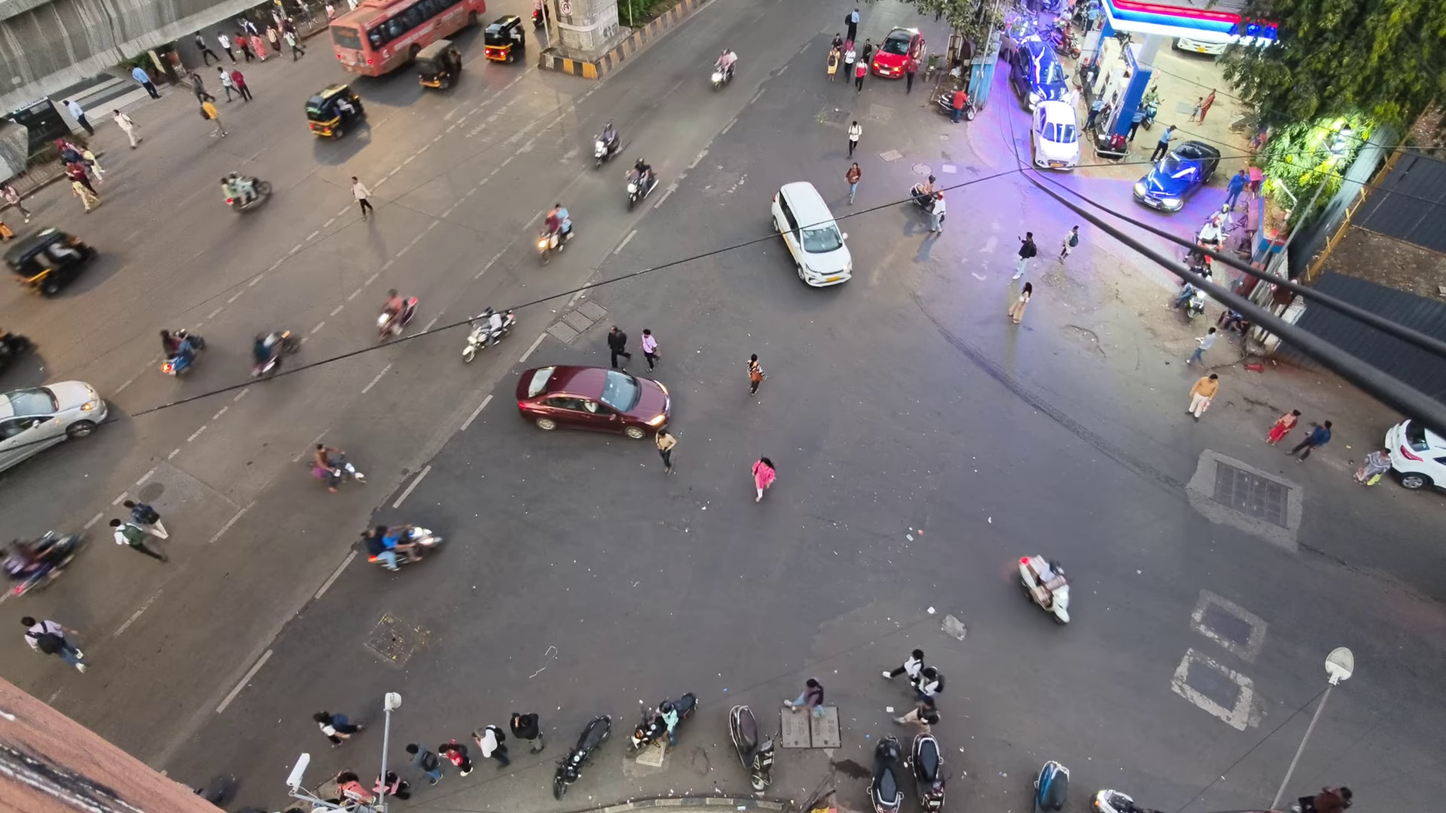walking: (21, 617, 86, 672), (109, 519, 167, 562), (1287, 420, 1331, 461), (123, 500, 168, 538), (313, 712, 362, 746), (473, 725, 509, 769), (405, 743, 442, 784), (784, 678, 825, 715), (1353, 448, 1392, 486), (1186, 373, 1217, 420), (509, 713, 545, 753), (334, 770, 375, 805), (1296, 786, 1351, 812), (438, 739, 473, 776), (894, 698, 940, 726), (0, 181, 31, 222), (883, 649, 923, 680), (1267, 410, 1301, 445), (1011, 232, 1036, 279), (1185, 327, 1216, 364), (113, 109, 142, 148), (65, 162, 97, 196), (912, 666, 944, 700), (63, 100, 94, 135), (1007, 282, 1032, 323), (752, 457, 775, 501), (374, 771, 410, 799), (607, 325, 630, 368), (351, 176, 374, 218), (1225, 169, 1248, 210), (655, 429, 676, 473), (201, 101, 227, 136), (1150, 125, 1174, 162), (194, 32, 220, 66), (132, 65, 158, 98), (72, 181, 99, 212), (188, 72, 215, 102), (1058, 225, 1078, 262), (747, 354, 765, 394), (1084, 96, 1105, 130), (230, 69, 252, 101), (215, 30, 236, 63), (1127, 107, 1146, 143), (641, 328, 657, 370), (929, 191, 945, 232), (1197, 89, 1216, 123), (284, 30, 304, 61), (846, 163, 861, 204), (951, 87, 967, 123), (847, 120, 862, 157), (219, 65, 234, 102), (235, 32, 252, 62), (826, 47, 841, 80), (905, 57, 918, 94), (845, 8, 859, 41), (854, 60, 868, 91), (266, 24, 279, 55), (1189, 97, 1203, 122), (861, 38, 874, 62)
